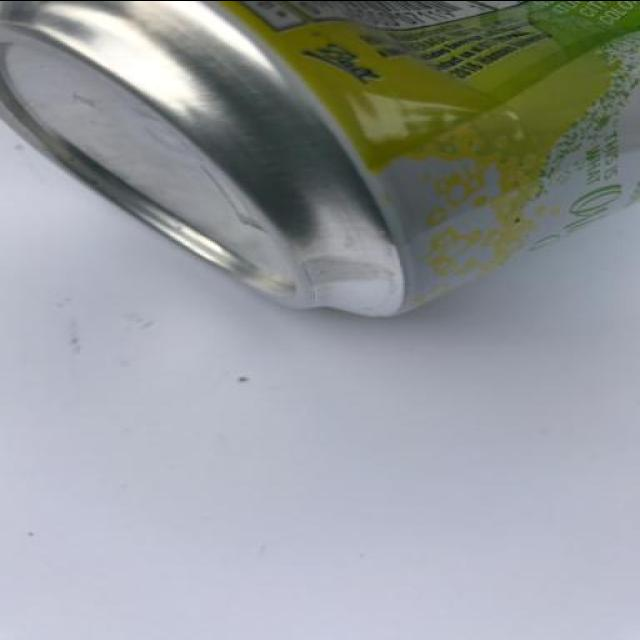litter: (1, 0, 636, 366)
